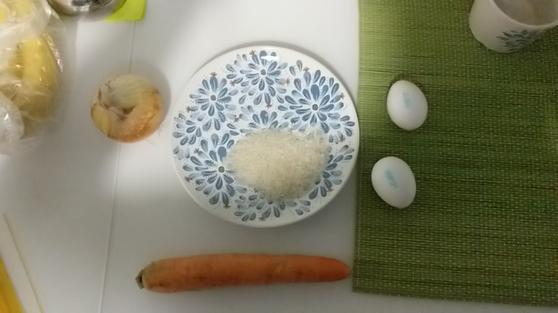carrot: (128, 235, 371, 301)
egg: (367, 154, 420, 215), (381, 75, 432, 135)
onion: (84, 68, 170, 145)
rice: (212, 122, 340, 203)
